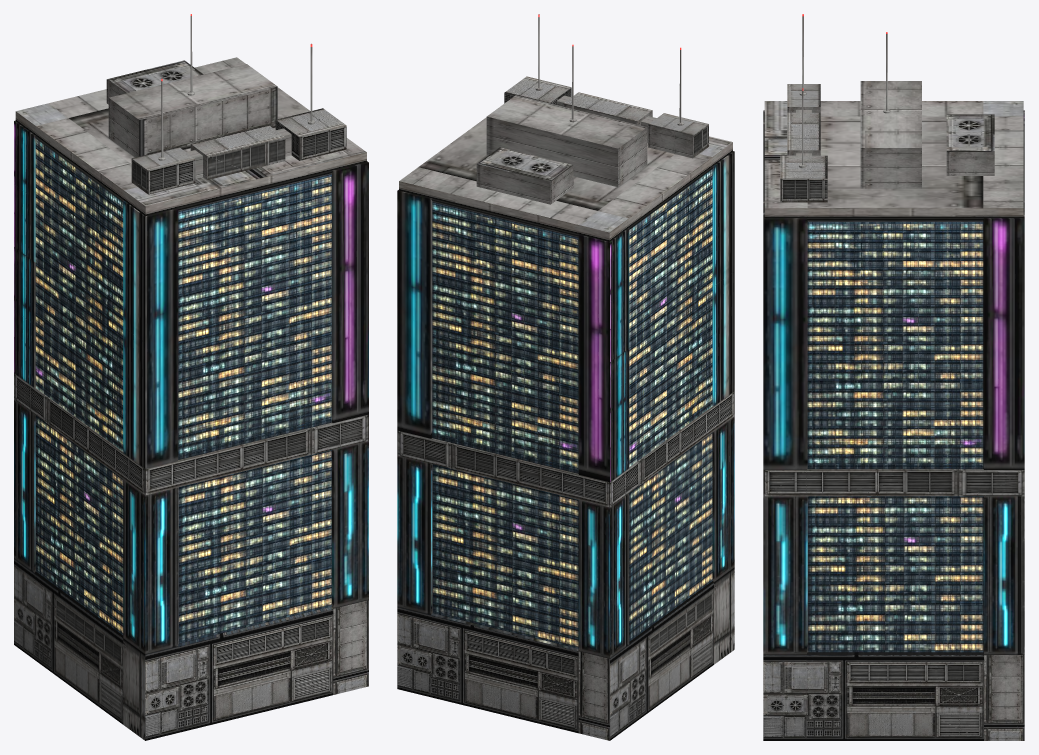
File: 2026-commercial-building-11.glb
3 views of the same model, side by side, from view 1: azimuth 30°, elevation 25°; view 2: azimuth 150°, elevation 25°; view 3: azimuth 270°, elevation 25° (orthographic). The views are drawn at different scales.
Parts seen in each view (by area): view 1: 2026-commercial-building-11; view 2: 2026-commercial-building-11; view 3: 2026-commercial-building-11.
Boxes of the visible parts, x1,y1,x2,y2 form: 2026-commercial-building-11: (14,14,368,740); 2026-commercial-building-11: (397,14,734,740); 2026-commercial-building-11: (763,14,1024,740).
Bounding box in the file's own units: 62.57 × 175 × 63.61.
Materials: 2 (2 with a texture image).
